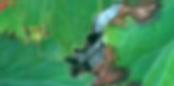Tomato leaf bacterial spot: (68, 0, 174, 86)
